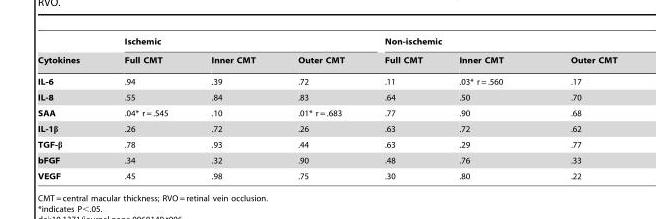table: (37, 36, 616, 180)
table column: (440, 36, 536, 180), (101, 36, 189, 180), (189, 36, 276, 180), (276, 36, 363, 180), (536, 36, 616, 180), (363, 36, 440, 180), (37, 36, 101, 180)
table column header: (37, 36, 616, 70)
table row: (37, 50, 616, 70), (37, 70, 616, 89), (37, 89, 616, 105), (37, 120, 616, 136), (37, 136, 616, 152), (37, 152, 616, 168), (37, 105, 616, 120), (37, 36, 616, 50), (37, 168, 616, 180)
table spanning cell: (101, 36, 363, 50), (363, 36, 616, 50), (37, 36, 101, 70)
